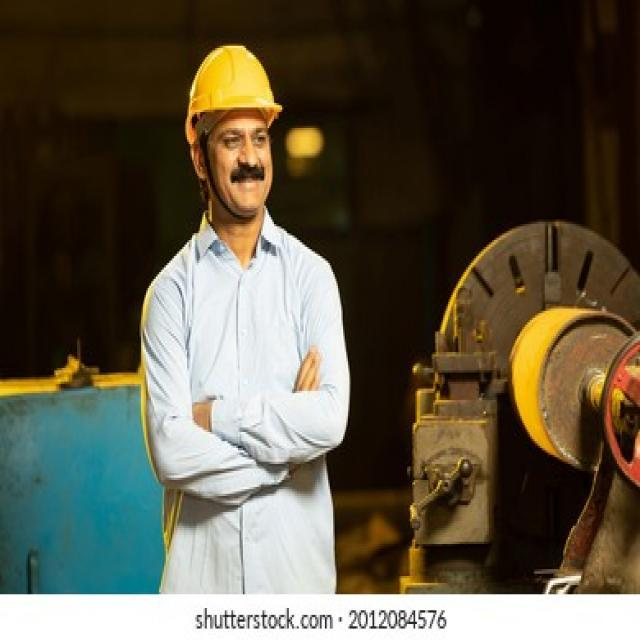safety_helmet: (182, 38, 286, 132)
